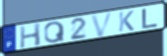2: (69, 17, 88, 42)
H: (18, 22, 42, 49)
K: (118, 10, 135, 33)
L: (141, 8, 160, 30)
Q: (44, 20, 67, 44)
V: (90, 11, 115, 38)
